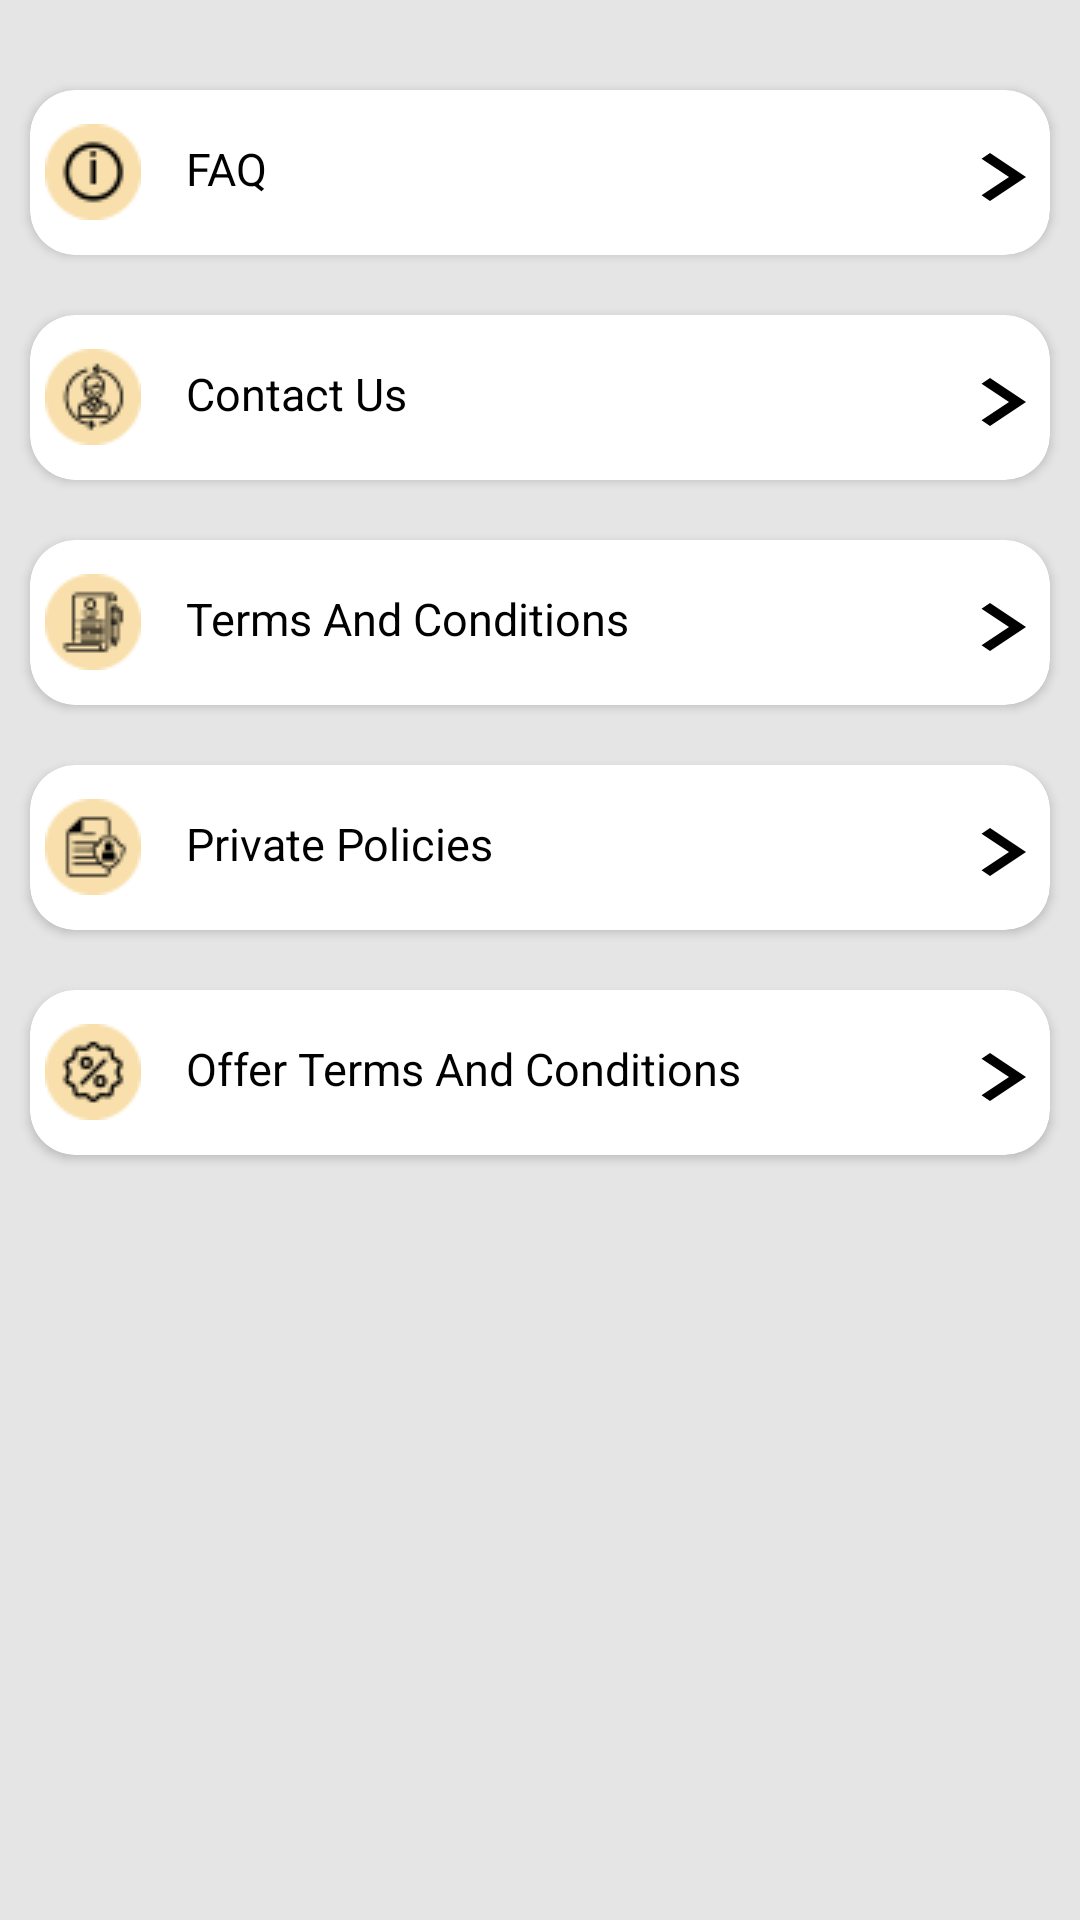

Screen size 1080 x 1920. Icon name, then its box in pixels as BBox(x1, y1, x2, y2):
chevron right: BBox(981, 153, 1026, 201), BBox(981, 378, 1026, 426), BBox(981, 603, 1026, 651), BBox(981, 828, 1026, 876), BBox(981, 1053, 1026, 1101)
privacypolicy: BBox(45, 799, 141, 895)
